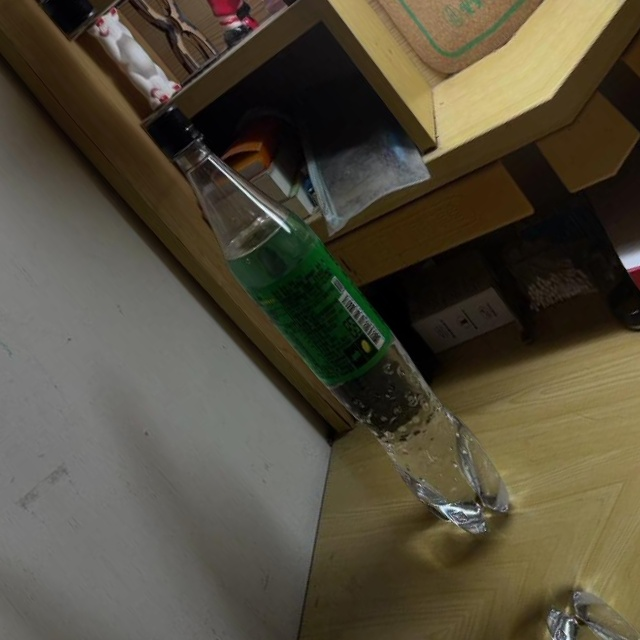Sprite: (119, 84, 527, 547)
